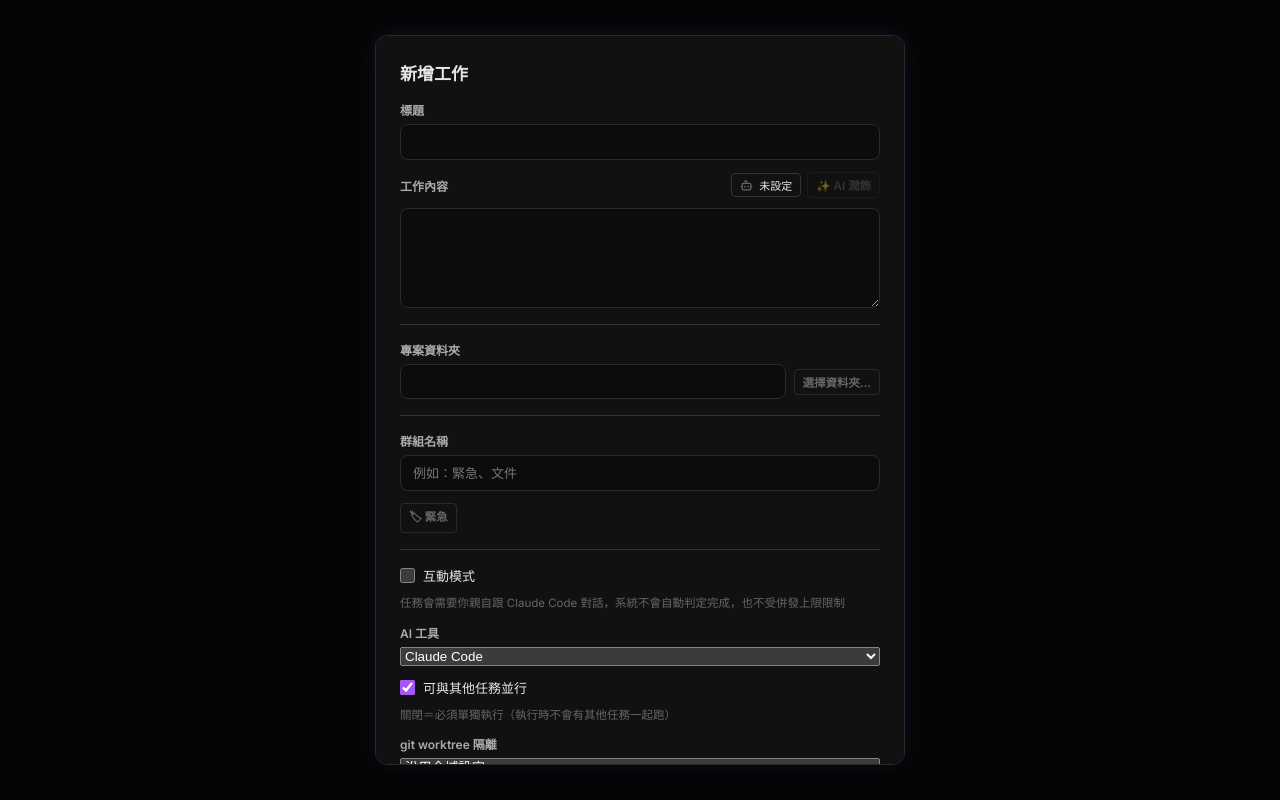
TaskEditorDialog Label 欄位 › 點快捷選項會填入 Label 欄
Click the button with test id "used-label-緊急". click: (428, 518)
box: [400, 503, 457, 533]
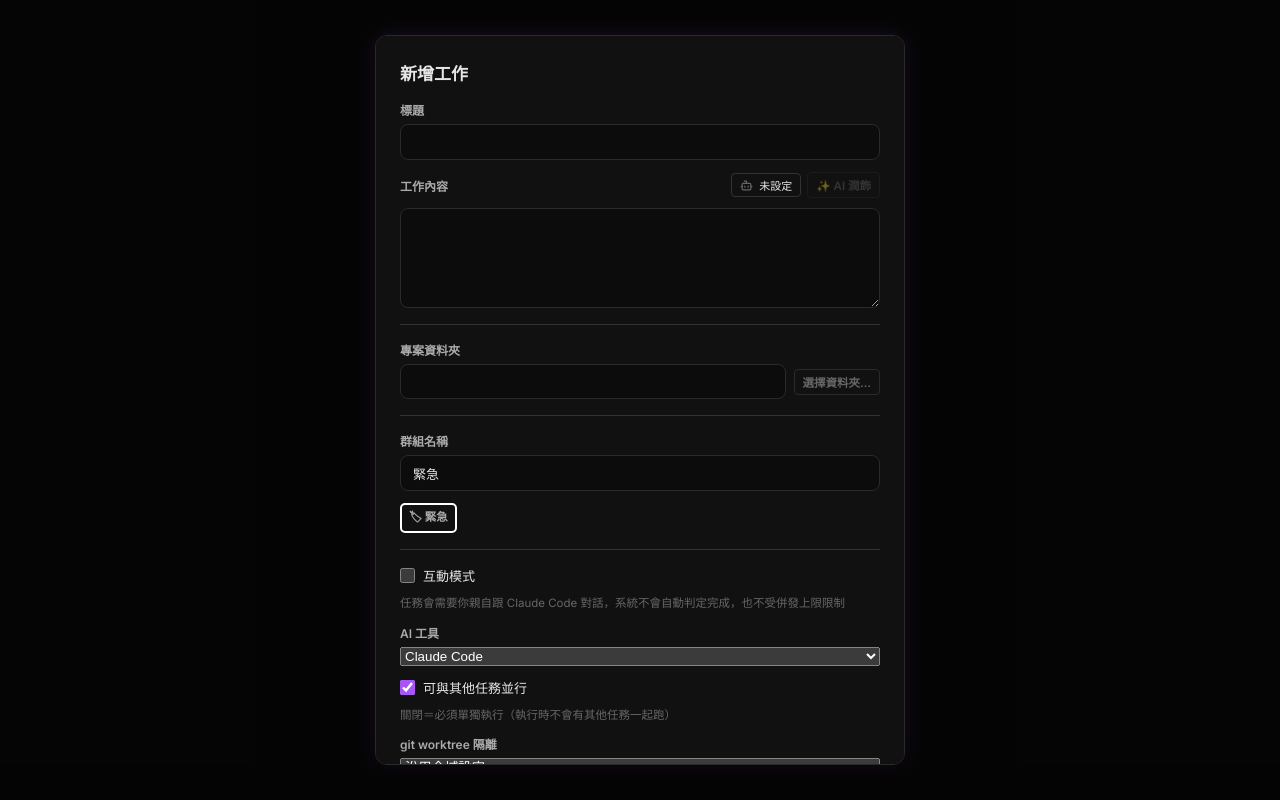
Expected: the field with test id "task-label-input" holds "緊急", [400, 455, 880, 491]
